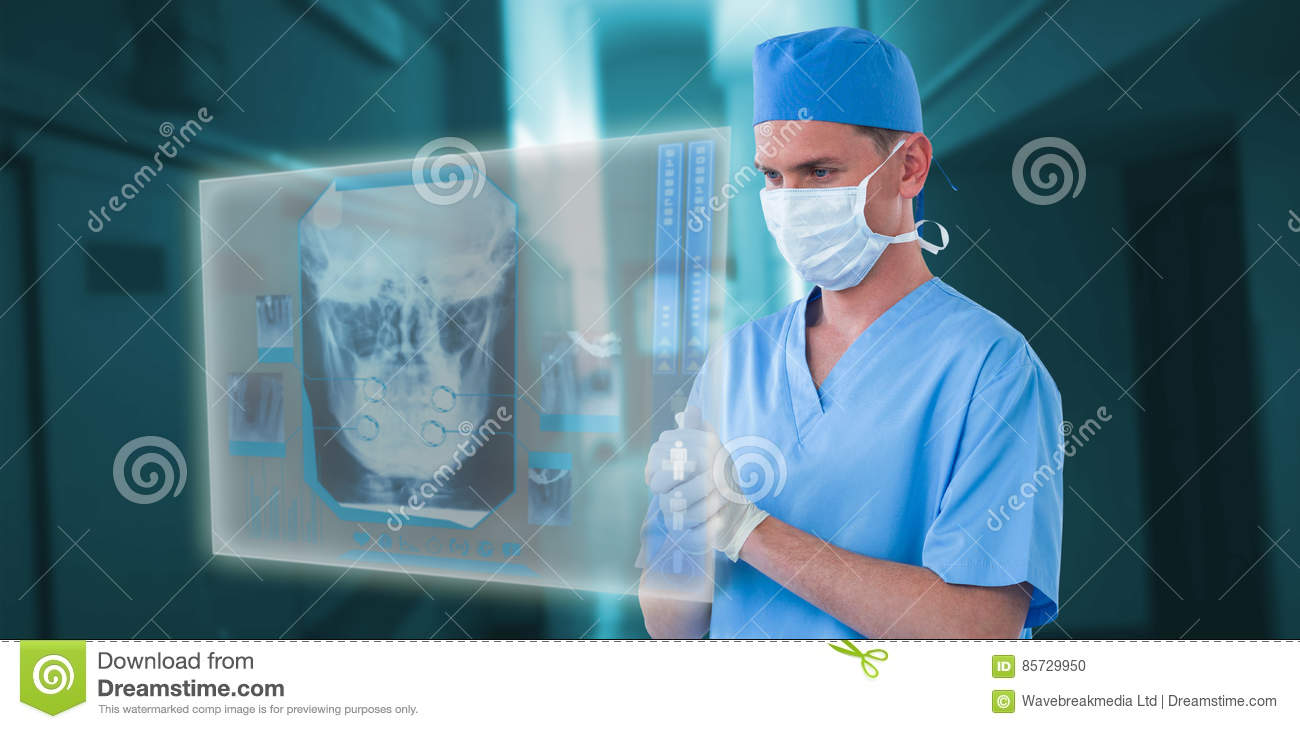mask: (751, 182, 898, 295)
